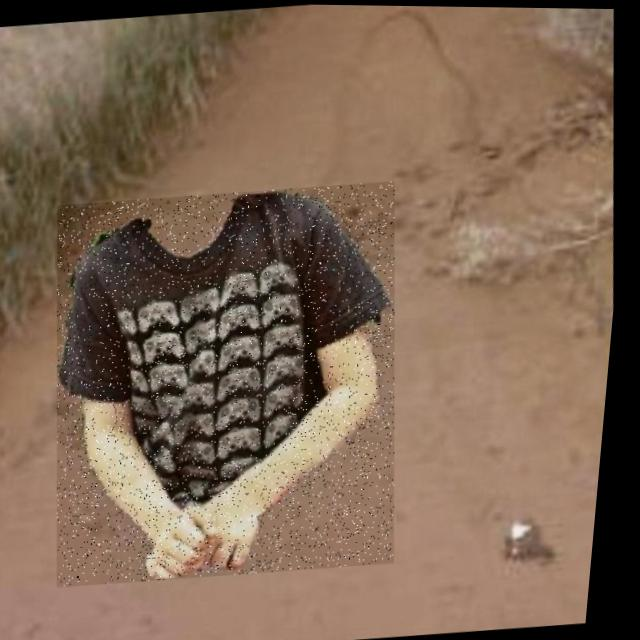Person in Rubble: (34, 175, 430, 591)
